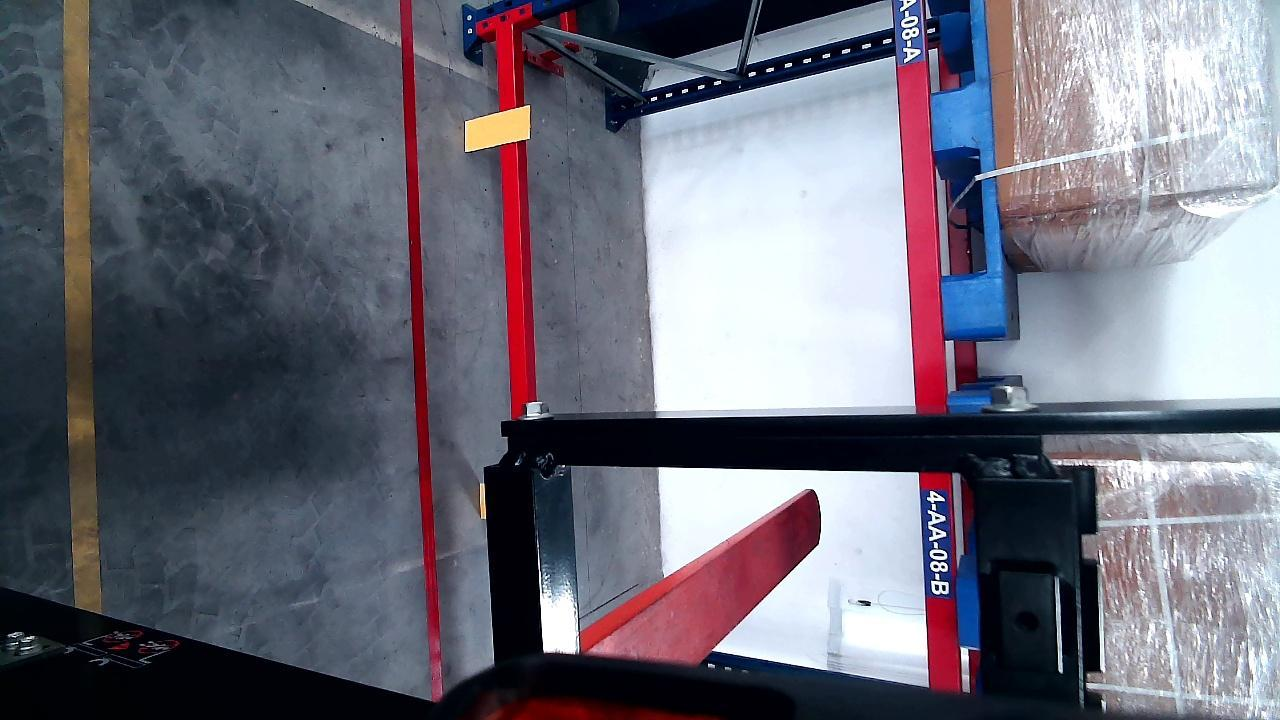red_line: (402, 1, 447, 698)
yellow_line: (60, 0, 101, 612)
